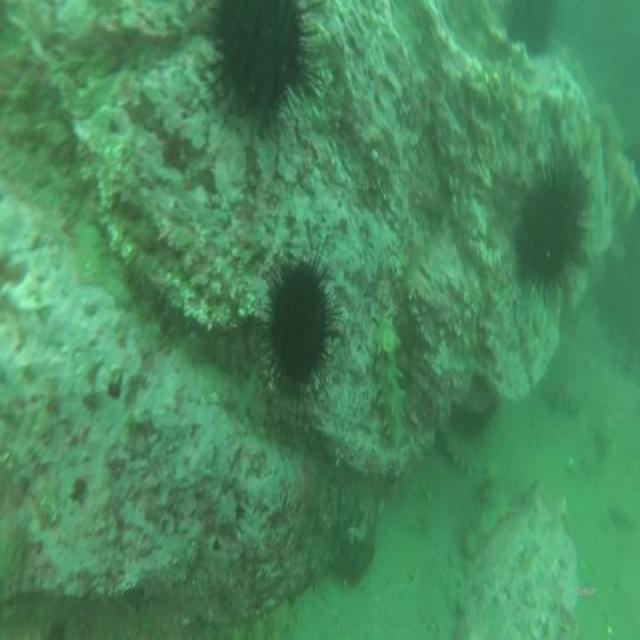echinus: (205, 0, 322, 128), (253, 237, 334, 409), (511, 163, 584, 297), (503, 0, 557, 55), (332, 531, 374, 597)
holothurian: (363, 312, 412, 458), (459, 476, 513, 561), (435, 414, 488, 482)
